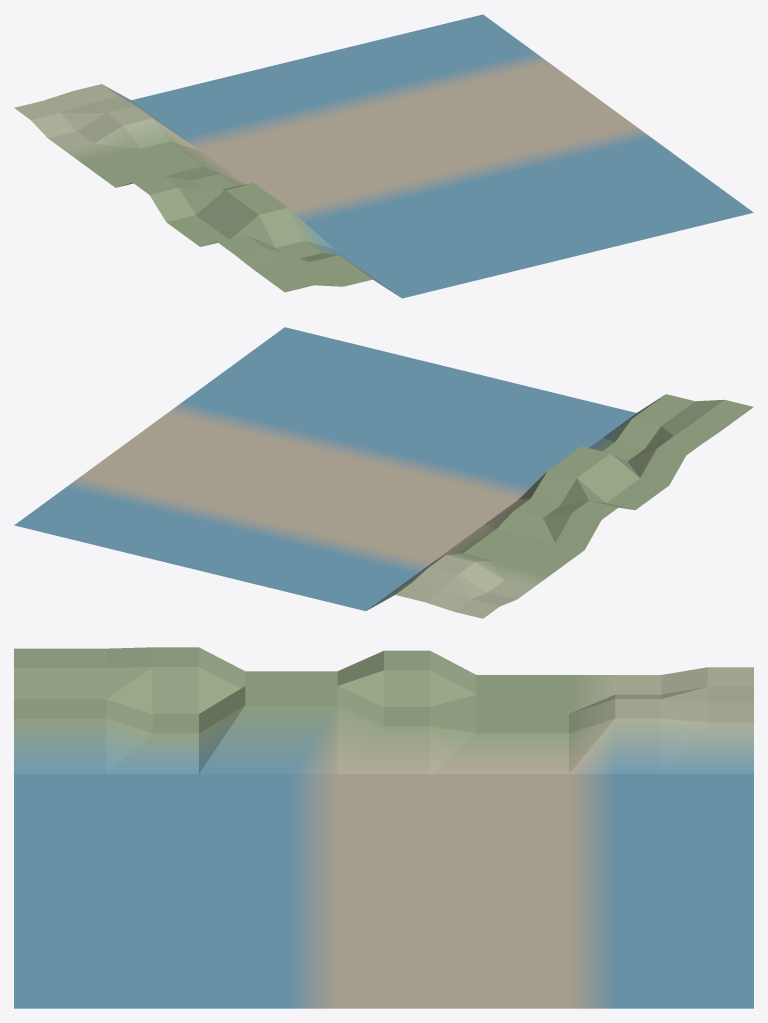
3 renders of one model, top to bottom at view 1: azimuth 30°, elevation 25°; view 2: azimuth 150°, elevation 25°; view 3: azimuth 270°, elevation 25°, orthographic. The views are drawn at different scales.
Size of the model in its own units: 32 by 2.34 by 32.
